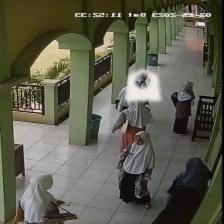Mukena: (124, 69, 161, 100)
